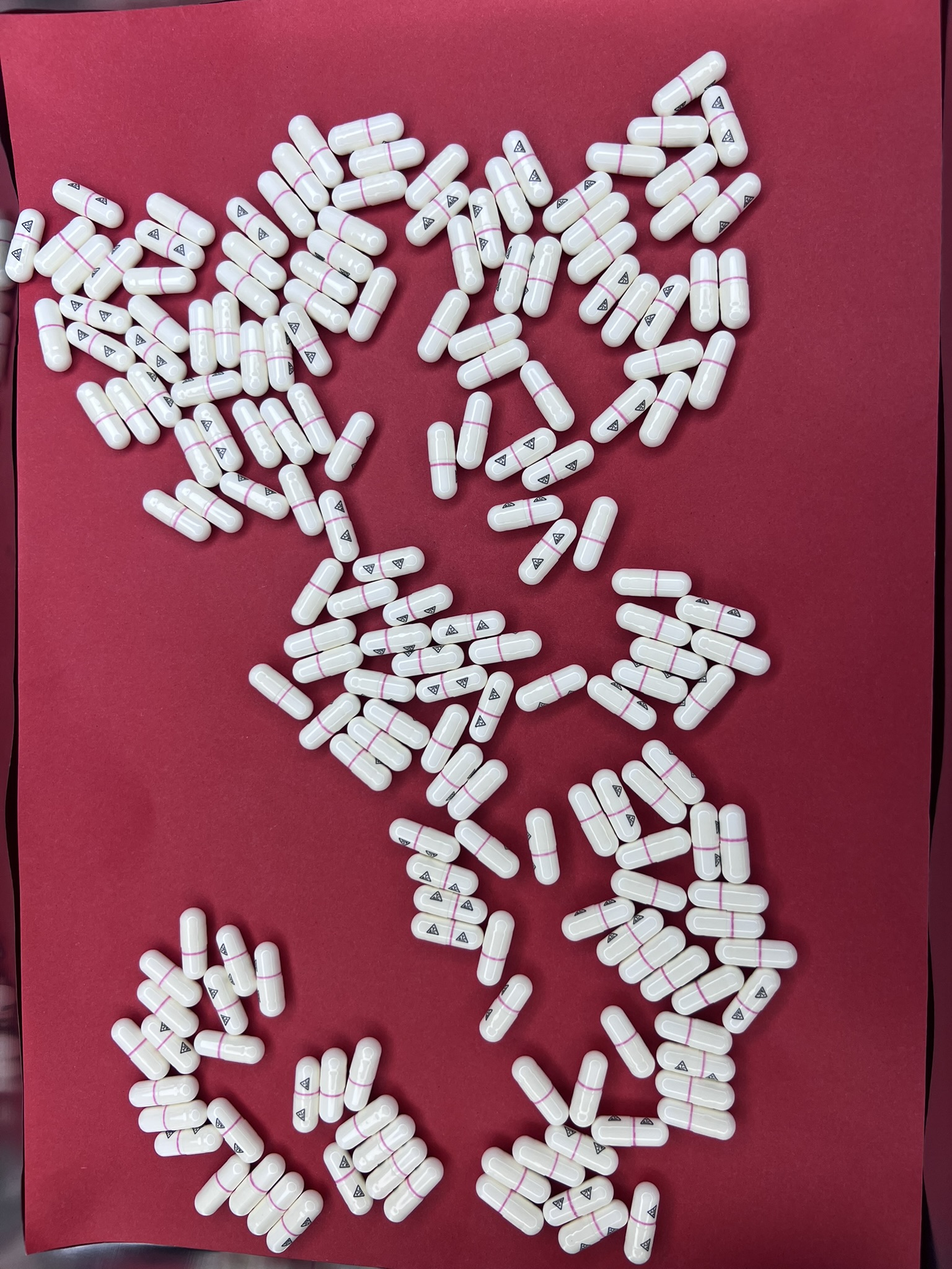Capsule: (650, 49, 726, 118), (645, 142, 720, 210), (564, 218, 637, 287), (647, 175, 720, 242), (694, 172, 760, 246), (545, 171, 617, 238), (600, 273, 662, 349), (578, 252, 641, 326), (403, 143, 470, 212), (590, 378, 660, 444), (405, 181, 472, 249), (560, 191, 629, 257), (640, 739, 706, 807), (474, 1174, 545, 1236), (287, 115, 346, 189), (635, 275, 692, 351), (621, 760, 686, 826), (32, 212, 97, 278), (365, 1135, 429, 1202), (215, 260, 283, 323), (596, 907, 665, 969), (383, 1154, 445, 1223), (511, 1133, 590, 1187), (224, 196, 291, 259), (722, 966, 784, 1034), (641, 945, 712, 1004), (691, 627, 773, 678), (544, 1122, 620, 1177), (586, 674, 658, 732), (559, 1199, 631, 1257), (619, 924, 686, 986), (257, 170, 318, 238), (517, 518, 578, 586), (134, 979, 202, 1040), (519, 360, 575, 434), (481, 1146, 552, 1204), (279, 301, 333, 377), (511, 1056, 568, 1128), (50, 231, 112, 297), (417, 288, 470, 365), (283, 277, 351, 337), (501, 129, 553, 207), (454, 338, 529, 392), (669, 965, 744, 1019), (304, 228, 375, 285), (75, 380, 132, 451), (675, 664, 737, 729), (639, 370, 692, 446), (104, 378, 160, 449), (601, 1007, 654, 1082), (127, 293, 191, 355), (455, 820, 520, 881), (330, 730, 395, 791), (226, 1152, 286, 1218), (425, 742, 484, 809), (704, 84, 752, 166), (316, 205, 386, 261), (687, 330, 736, 410), (447, 757, 509, 820), (353, 1112, 416, 1174), (145, 191, 216, 246), (298, 691, 363, 751), (449, 312, 524, 364), (125, 326, 190, 386), (111, 1016, 171, 1081), (271, 142, 330, 208), (245, 1170, 304, 1236), (610, 658, 691, 706), (220, 231, 287, 289), (543, 1174, 616, 1227), (140, 1013, 202, 1075), (653, 1011, 733, 1059), (140, 948, 205, 1007), (485, 429, 557, 482), (335, 1093, 399, 1152), (127, 363, 183, 430), (348, 266, 396, 344), (481, 971, 532, 1044), (83, 238, 142, 301), (194, 1153, 252, 1217), (192, 402, 245, 472), (361, 697, 431, 750), (67, 321, 137, 374), (568, 784, 618, 858), (142, 490, 211, 543), (210, 1097, 265, 1163), (347, 716, 413, 771), (386, 817, 463, 864), (135, 220, 207, 270), (324, 1142, 374, 1214), (249, 665, 312, 722), (270, 1187, 325, 1252), (174, 419, 225, 489), (174, 480, 240, 534), (328, 572, 407, 617), (514, 664, 588, 712), (420, 702, 470, 773), (53, 179, 124, 229), (613, 829, 690, 875), (289, 250, 357, 302), (485, 156, 532, 231), (290, 560, 345, 624), (679, 595, 759, 639), (58, 292, 136, 337), (467, 670, 515, 743), (263, 398, 314, 466), (609, 869, 689, 912), (562, 897, 635, 944), (326, 413, 375, 483), (288, 385, 336, 456), (525, 441, 593, 491), (628, 637, 707, 680), (624, 339, 703, 382), (593, 770, 641, 840), (656, 1040, 734, 1083), (233, 398, 282, 466), (316, 488, 360, 563), (523, 237, 563, 319), (658, 1096, 734, 1139), (574, 497, 618, 571), (327, 113, 404, 155), (615, 603, 693, 644), (278, 468, 324, 537), (203, 966, 251, 1032), (348, 138, 425, 179), (475, 910, 516, 987), (623, 1179, 660, 1264), (290, 641, 363, 684), (414, 884, 488, 926), (4, 209, 47, 281), (219, 473, 286, 519), (570, 1049, 609, 1128), (447, 213, 484, 296), (335, 171, 408, 213), (216, 925, 259, 996), (656, 1071, 734, 1110), (32, 297, 72, 373), (469, 187, 506, 269), (344, 1038, 383, 1115), (495, 235, 533, 314), (456, 392, 493, 472), (489, 493, 563, 533), (718, 801, 752, 886), (286, 621, 360, 660), (380, 584, 454, 623), (711, 937, 798, 970), (353, 545, 428, 583), (586, 141, 663, 178), (416, 665, 486, 705), (689, 882, 771, 916), (687, 908, 771, 941), (406, 853, 477, 892), (263, 315, 298, 394), (627, 116, 708, 150), (358, 623, 433, 659), (719, 249, 751, 333), (591, 1114, 665, 1150), (411, 912, 481, 950), (343, 668, 416, 704), (688, 249, 719, 333), (470, 631, 542, 667), (137, 1099, 209, 1135), (173, 371, 244, 407), (131, 1073, 202, 1109), (194, 1030, 265, 1066), (525, 810, 560, 883), (155, 1120, 223, 1157), (254, 942, 286, 1018), (427, 423, 458, 500), (433, 612, 504, 645), (690, 805, 722, 878), (239, 321, 270, 396), (391, 644, 463, 676), (123, 266, 197, 297), (318, 1049, 348, 1125), (213, 293, 242, 371), (612, 567, 690, 596), (179, 905, 209, 980), (292, 1055, 320, 1133), (188, 299, 215, 374)
